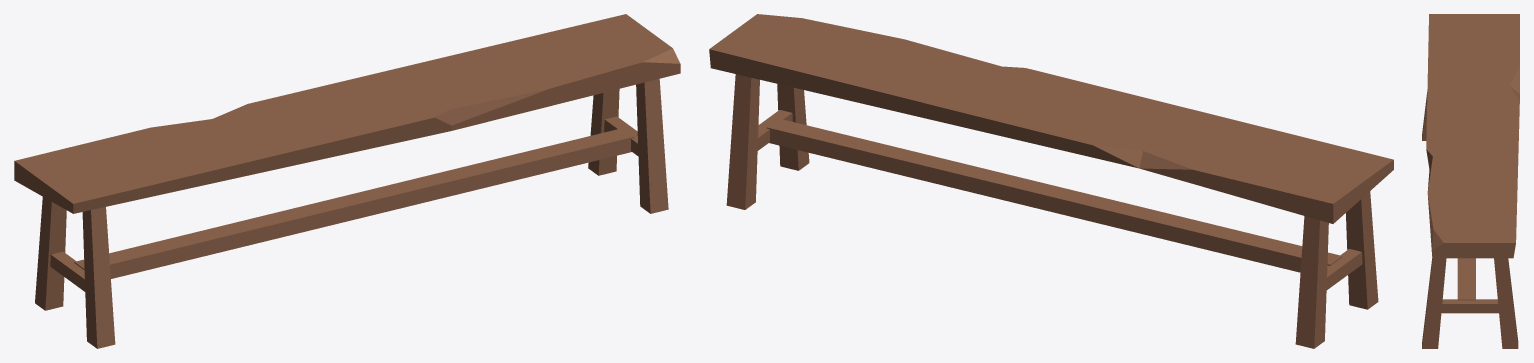
Rendered from kursi jualan.fbx.
3 renders of one model, left to right at view 1: azimuth 30°, elevation 25°; view 2: azimuth 150°, elevation 25°; view 3: azimuth 270°, elevation 25°, orthographic. The views are drawn at different scales.
Visible parts, largest first — view 1: Cube.094; view 2: Cube.094; view 3: Cube.094.
Boxes of the visible parts, x1=… form: Cube.094: x1=14, y1=14, x2=680, y2=348; Cube.094: x1=709, y1=14, x2=1393, y2=348; Cube.094: x1=1422, y1=14, x2=1519, y2=348.
Size of the model in its own units: 315 by 72.36 by 56.84.
